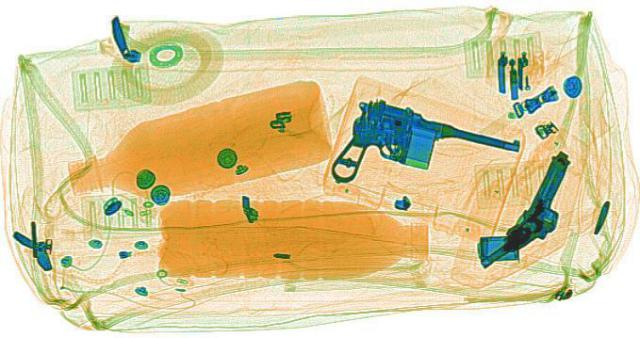Gun: (284, 93, 538, 211), (464, 149, 594, 269)
